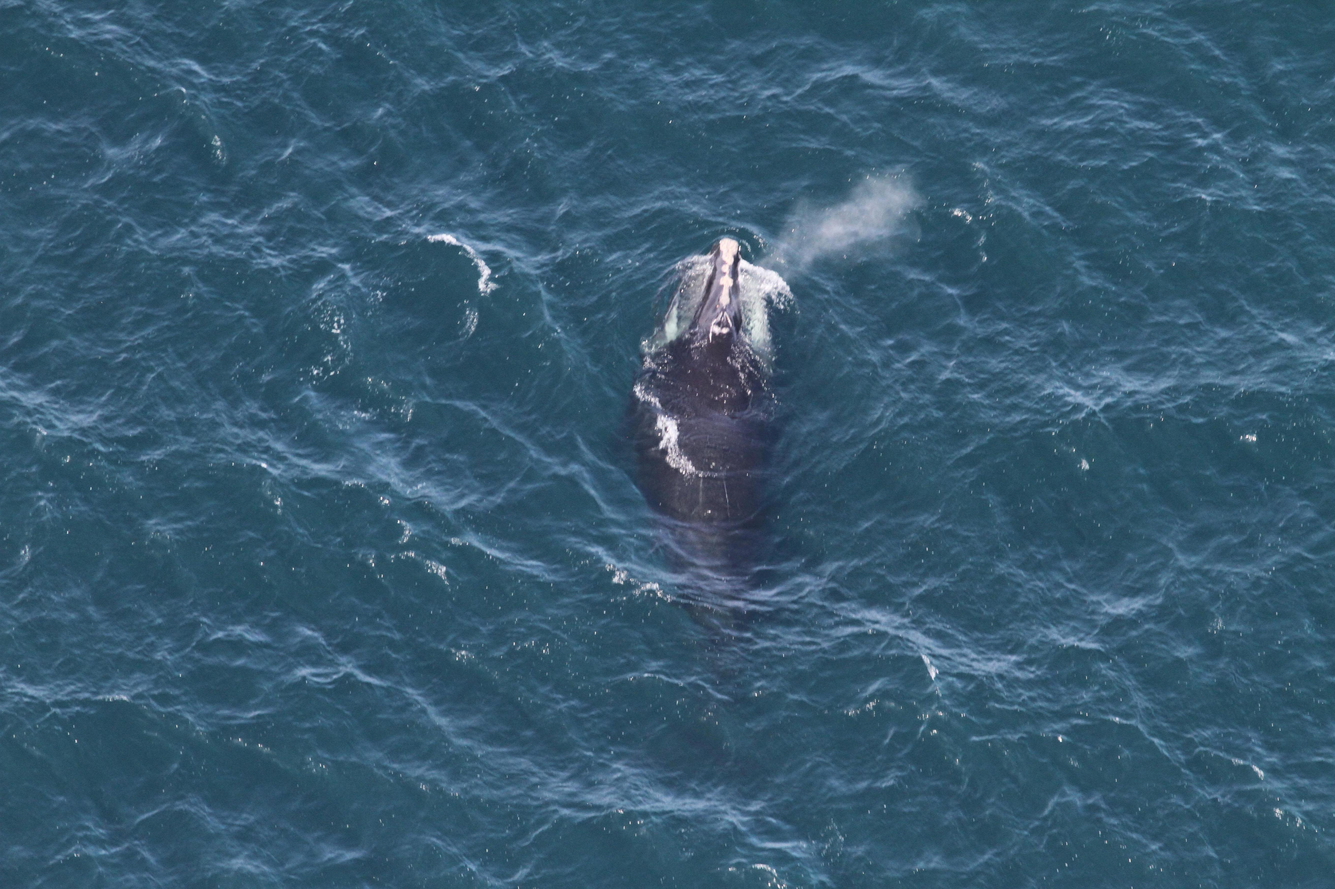whale: (623, 231, 809, 667)
